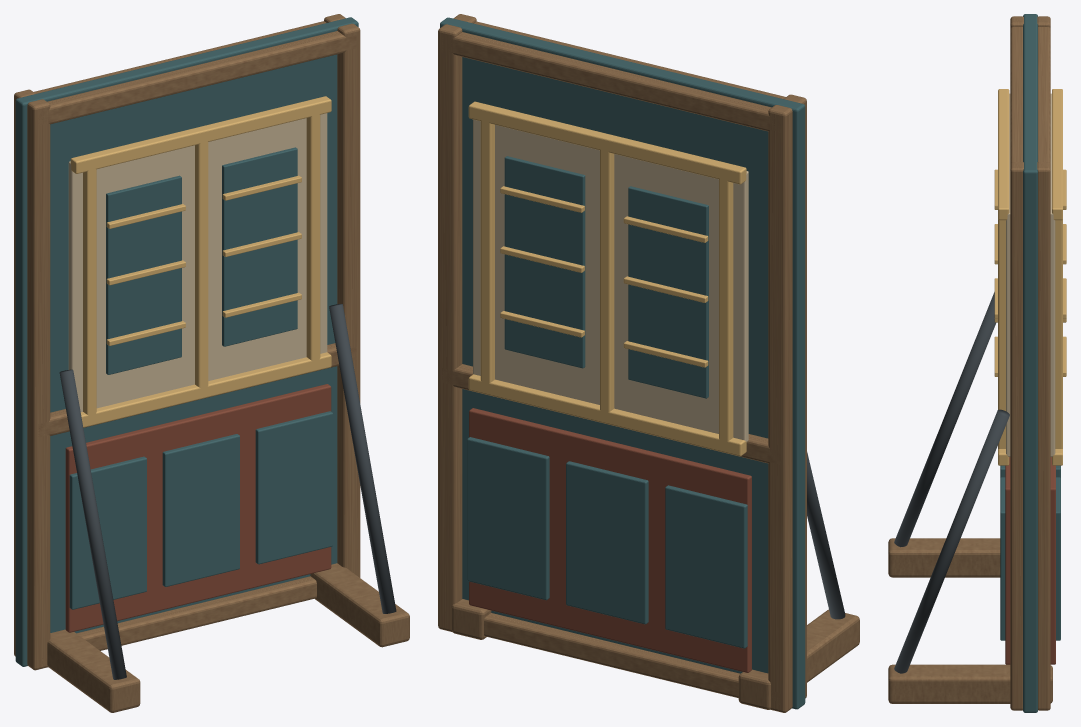
File: flat.gltf
The picture shows the model from 3 angles, left to right: view 1: azimuth 30°, elevation 25°; view 2: azimuth 150°, elevation 25°; view 3: azimuth 270°, elevation 25°; orthographic projection. The views are drawn at different scales.
Visible parts, largest first — view 1: flat; view 2: flat; view 3: flat.
Boxes of the visible parts, box(x1,y1,x2,y2) form: flat: box(14, 14, 409, 712); flat: box(438, 14, 859, 712); flat: box(888, 14, 1066, 712).
Size of the model in its own units: 2.5 by 4 by 1.19.
7 materials, 2 textured.
